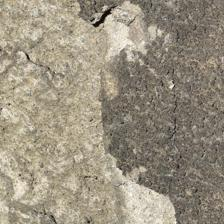Crack: (113, 48, 148, 224), (43, 44, 106, 108)
